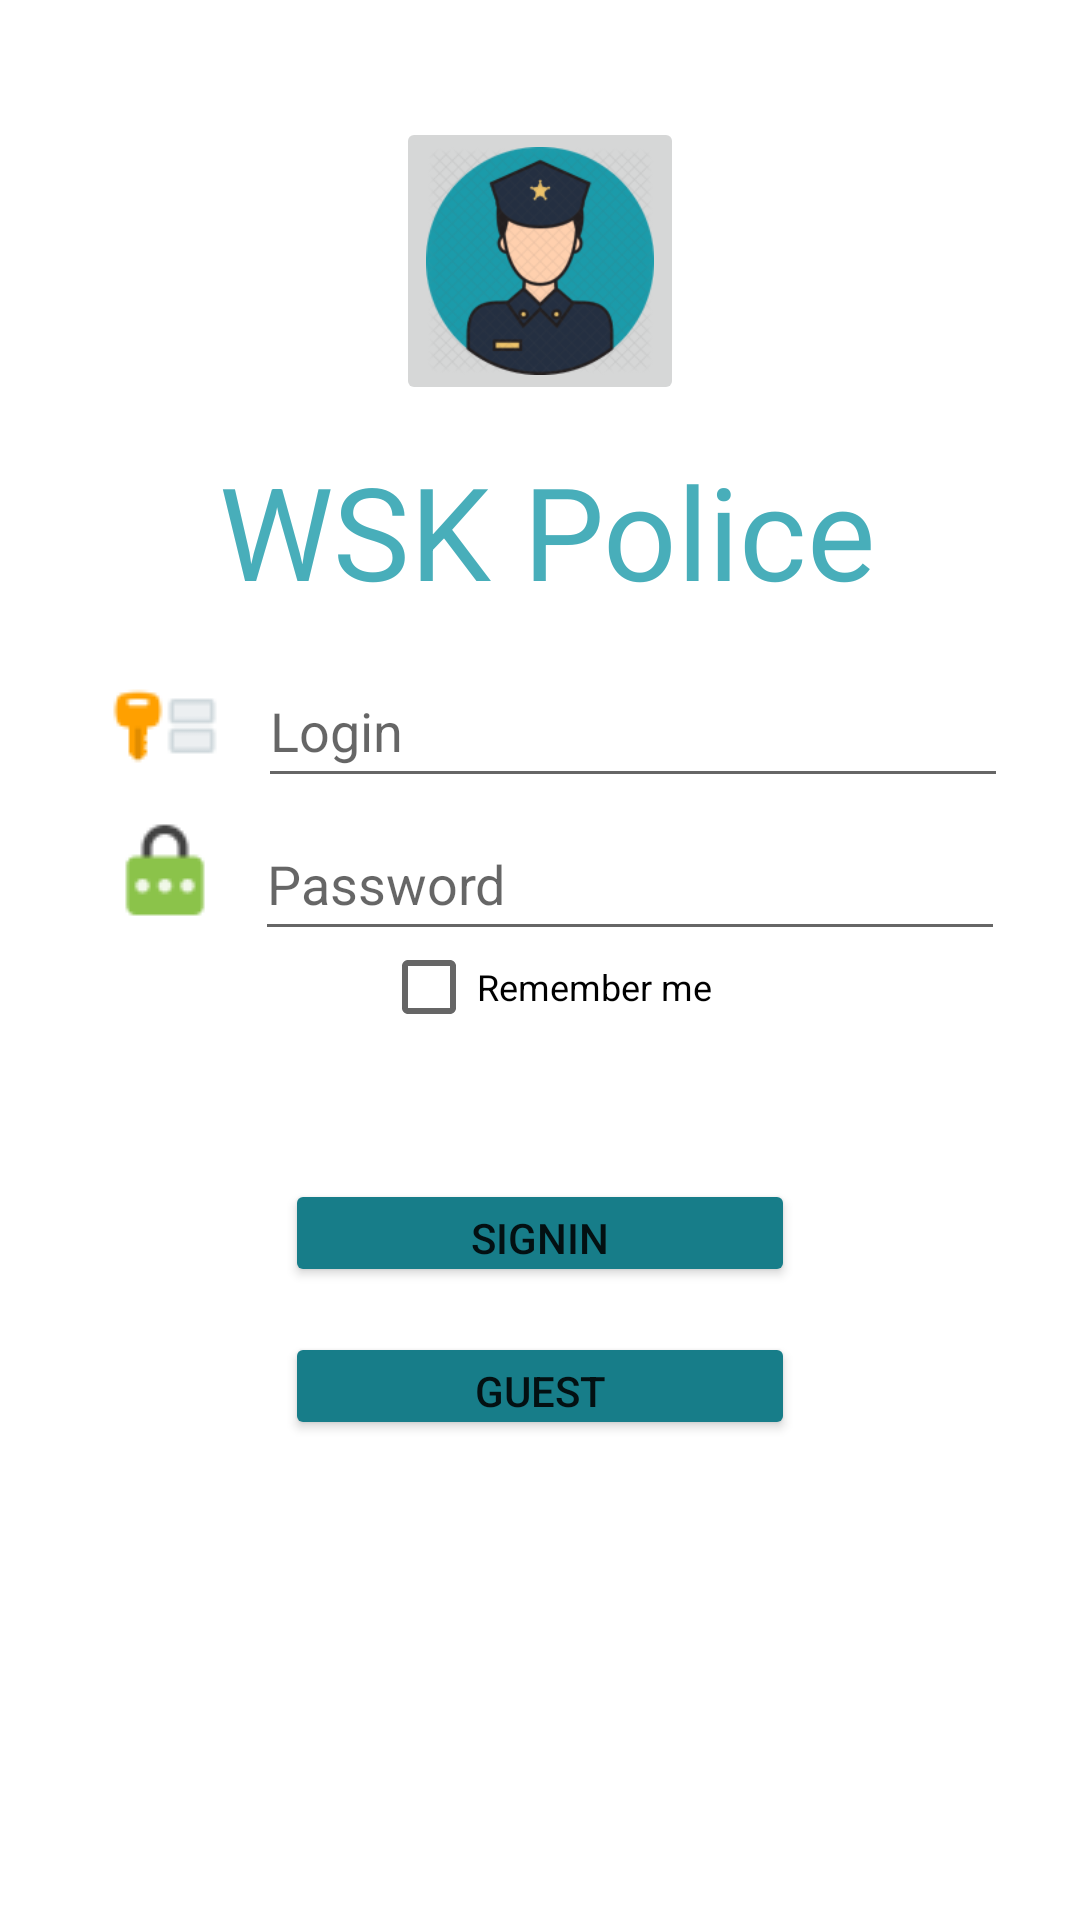

Icons on this 1080×1920 Android screen, each with the point to tap as (x,y):
log: (164,726)
policeman: (540,261)
